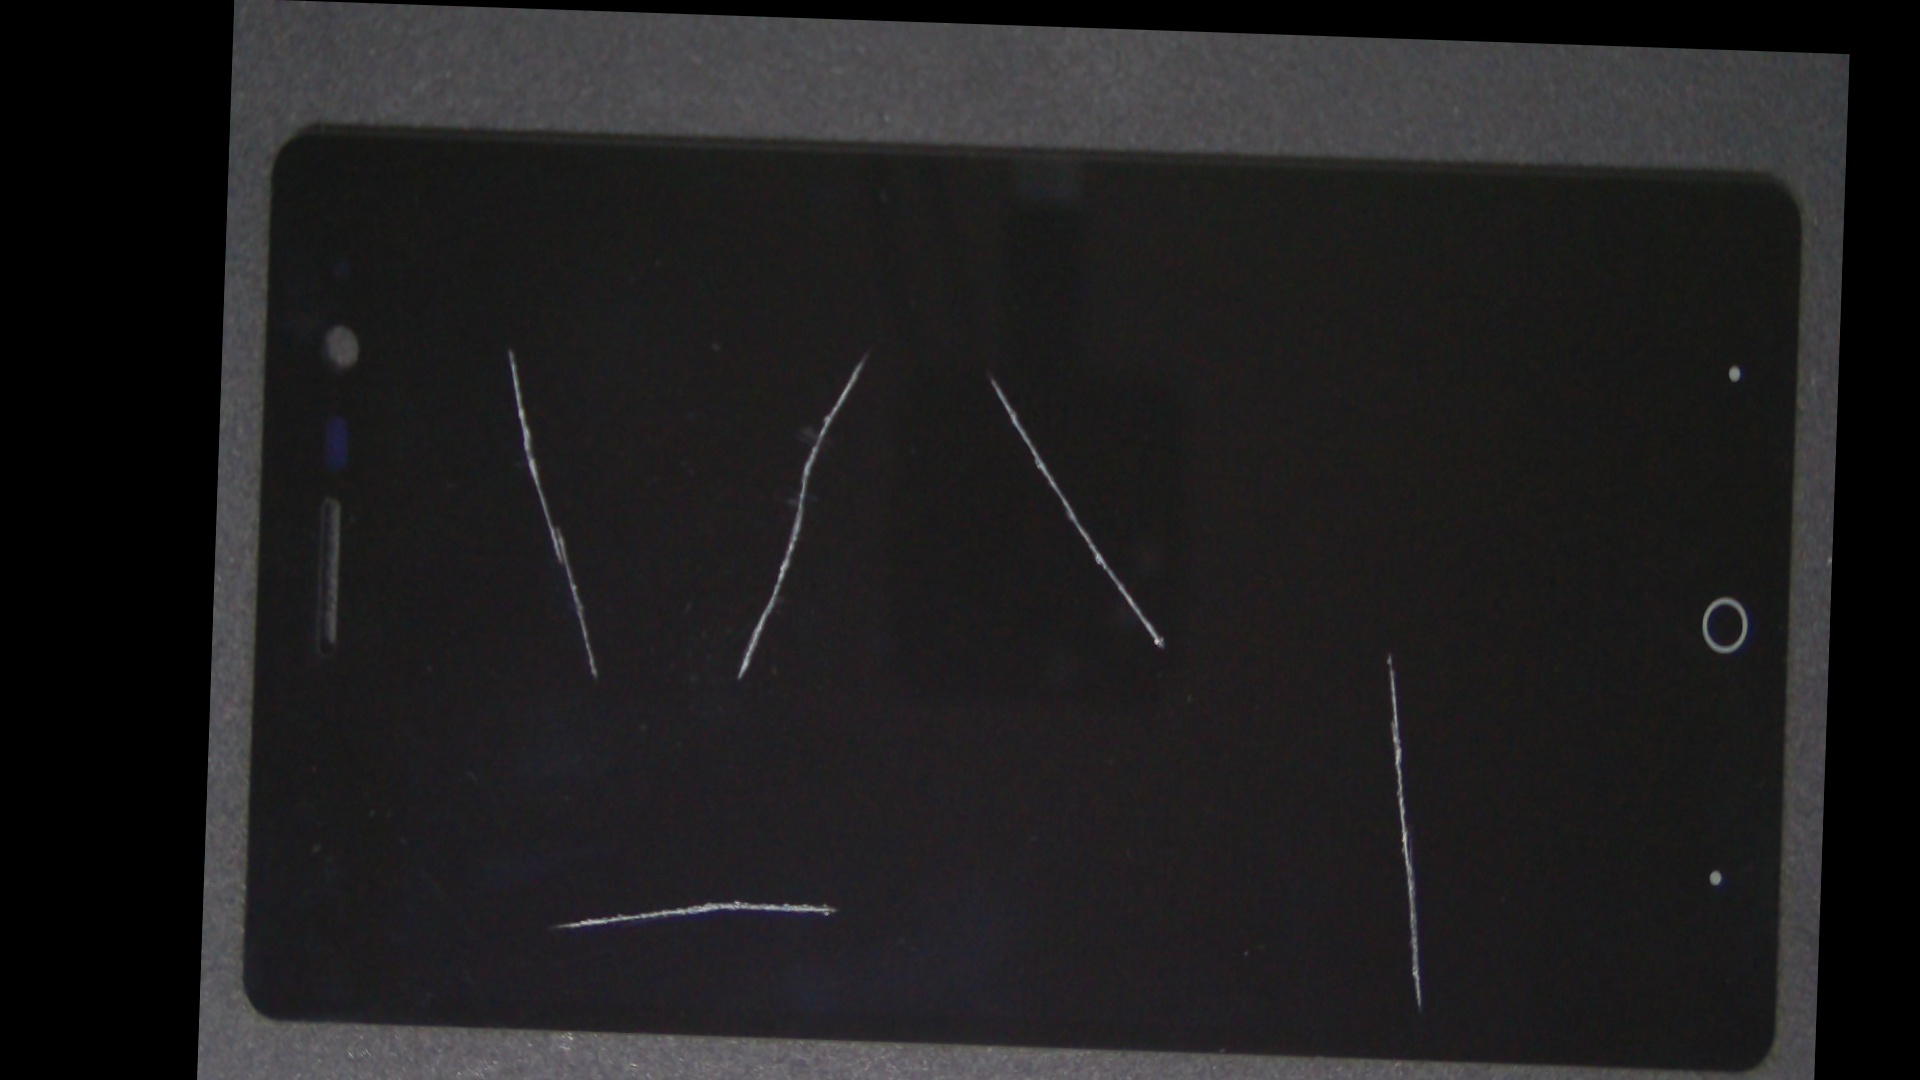oil: (790, 326, 1840, 976), (462, 448, 1011, 1080), (600, 186, 1379, 563), (541, 174, 1195, 529), (361, 173, 662, 522)
